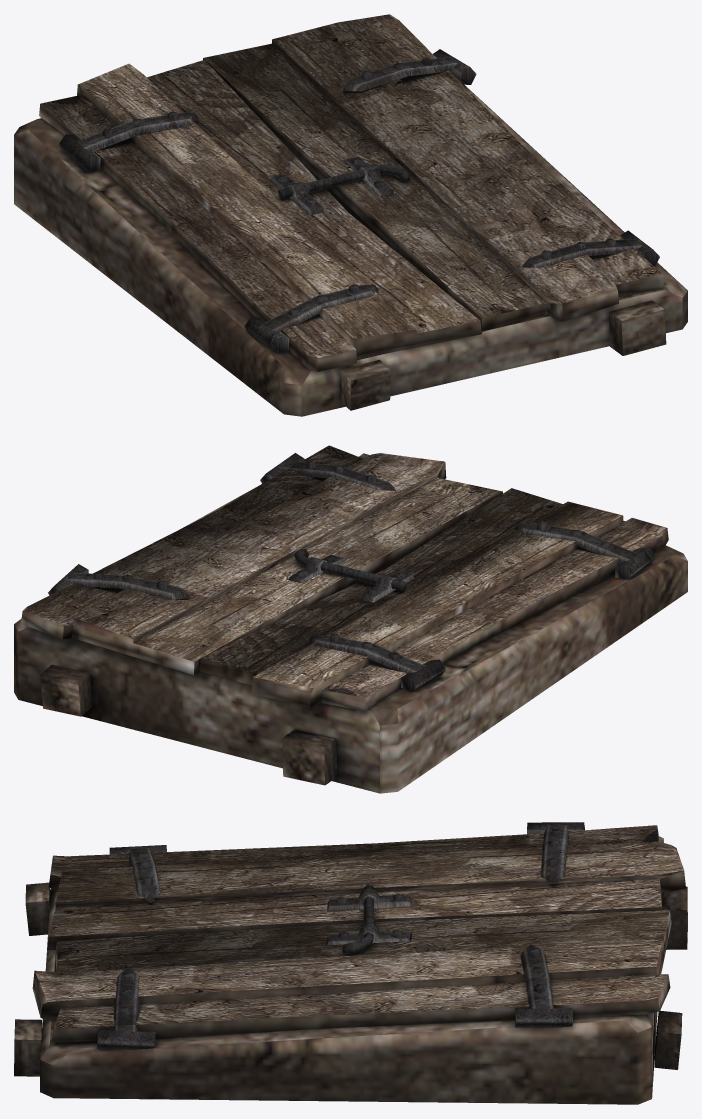
Rendered from trapdoor.obj.
3 renders of one model, top to bottom at view 1: azimuth 30°, elevation 25°; view 2: azimuth 150°, elevation 25°; view 3: azimuth 270°, elevation 25°, orthographic. The views are drawn at different scales.
Visible parts, largest first — view 1: trapdoor.obj; view 2: trapdoor.obj; view 3: trapdoor.obj.
Boxes of the visible parts, box(x1,y1,x2,y2) form: trapdoor.obj: box(14, 14, 687, 416); trapdoor.obj: box(14, 445, 687, 793); trapdoor.obj: box(14, 822, 687, 1104).
Bounding box in the file's own units: 41.17 × 9.68 × 56.64.
Materials: 2 (2 with a texture image).
